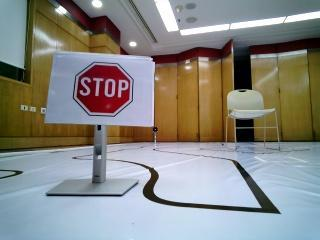stop: (53, 52, 147, 122)
